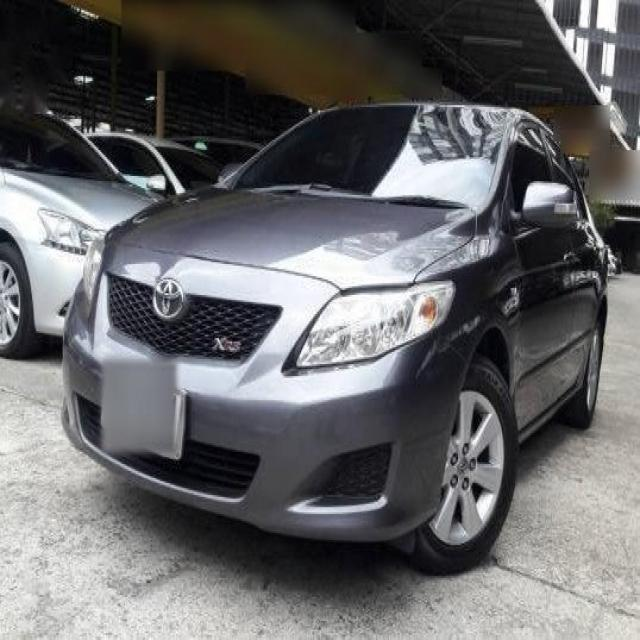back_left_door: (542, 128, 601, 392)
front_bumper: (61, 228, 468, 545)
front_glass: (226, 107, 505, 208)
front_left_door: (505, 120, 577, 427)
front_left_light: (297, 282, 458, 369)
front_right_light: (82, 230, 104, 308)
hood: (103, 183, 478, 292)
left_mirror: (506, 183, 581, 232)
wheel: (406, 355, 519, 571), (582, 318, 602, 425)
